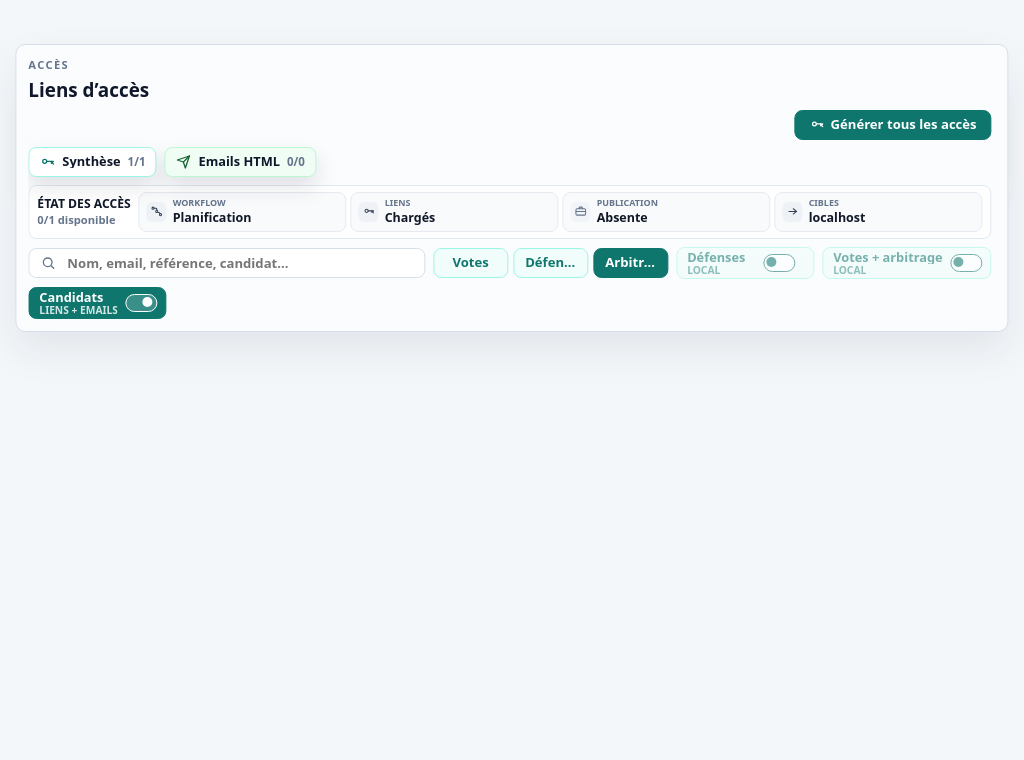
Test: GenToken generation command › reprend l'état email déjà envoyé pour les liens d'arbitrage
The image size is (1024, 760).
Click the button with aria-label "ouvrir la synthèse des accès". click: [92, 162]
box: [28,147,156,177]
(page scrolled)
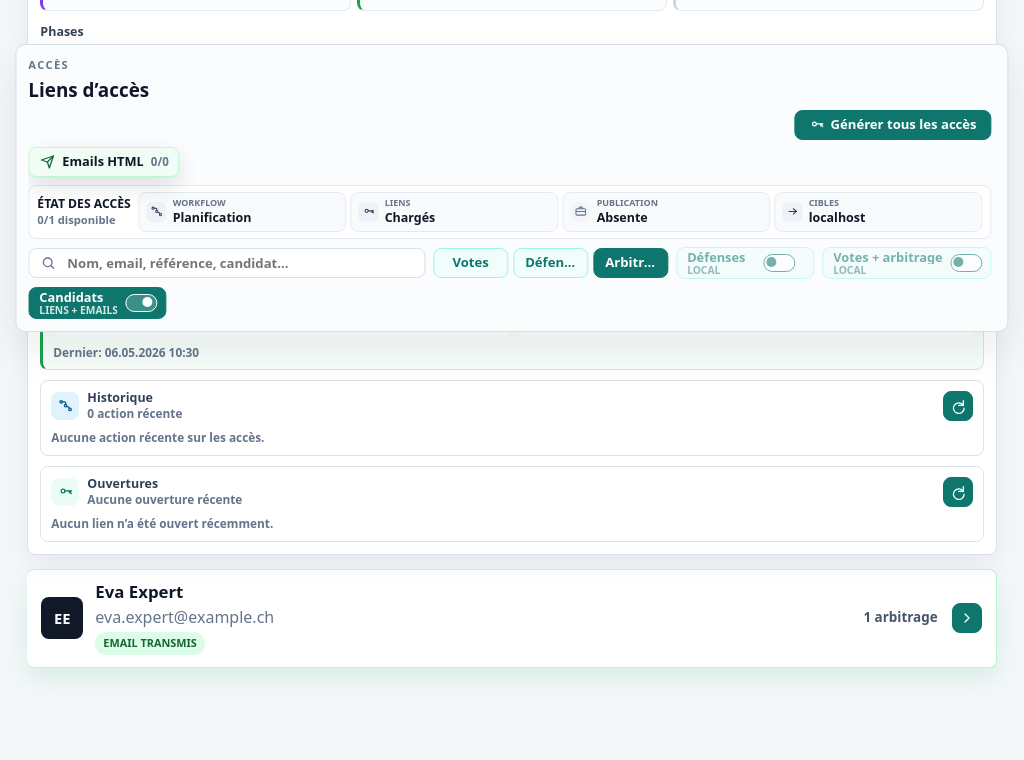
Expected: the text "1/1 transmis" is shown, [89,256,163,272]
Click the button named "ouvrir le bloc de Eva Expert". click: [967, 618]
box: [952,603,982,633]
(page scrolled)
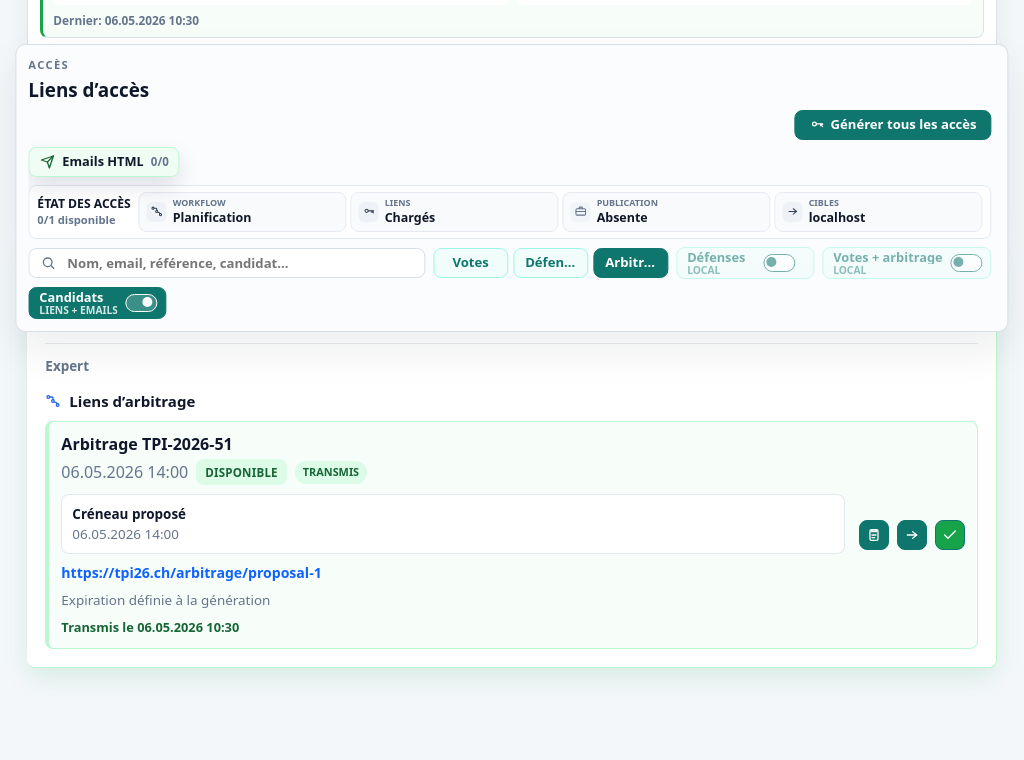
Expected: the text "Transmis le 06.05.2026 10:30" is shown, [61,618,239,636]
